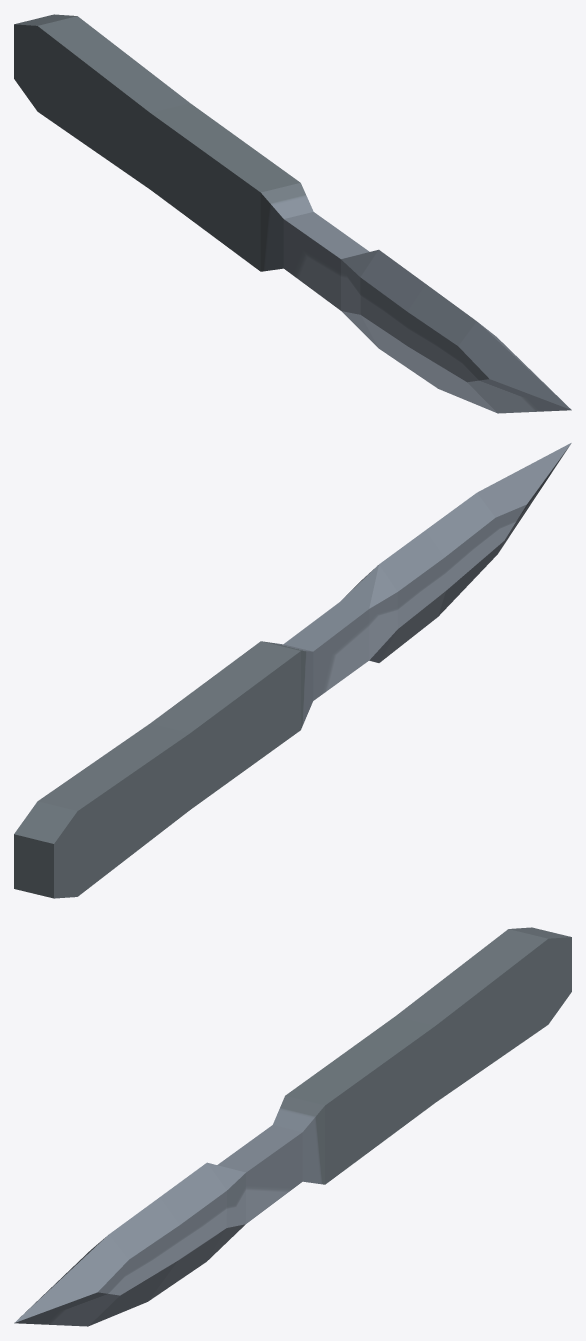
The model's file is SM_Prop_Scalpel_01.fbx.
3 renders of one model, top to bottom at view 1: azimuth 30°, elevation 25°; view 2: azimuth 150°, elevation 25°; view 3: azimuth 330°, elevation 25°, orthographic.
Visible parts, largest first — view 1: SM_Prop_Scalpel_01; view 2: SM_Prop_Scalpel_01; view 3: SM_Prop_Scalpel_01.
Boxes of the visible parts, x1,y1,x2,y2 form: SM_Prop_Scalpel_01: (14,14,571,413); SM_Prop_Scalpel_01: (14,443,571,898); SM_Prop_Scalpel_01: (14,927,571,1326).
Size of the model in its own units: 1.27 by 3.01 by 29.61.
